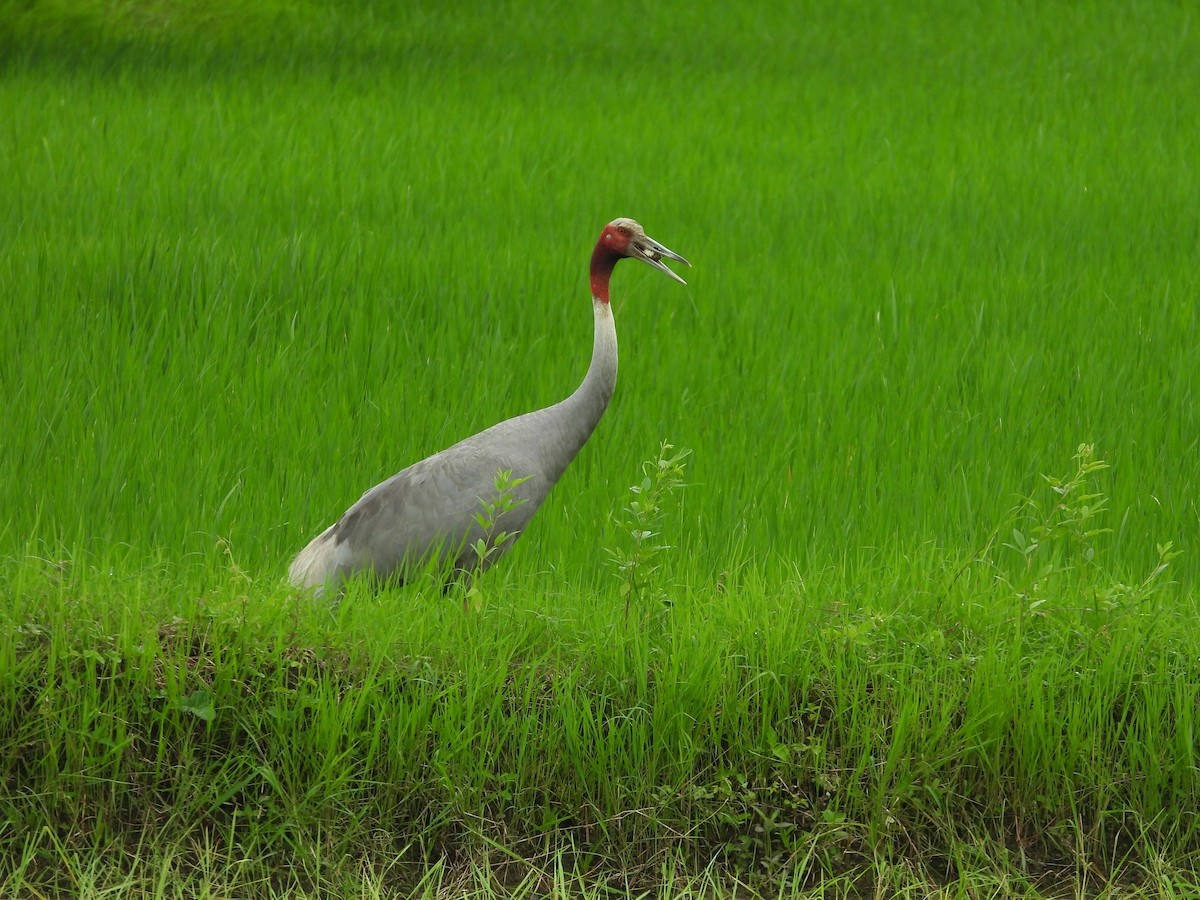crane: (276, 209, 703, 621)
